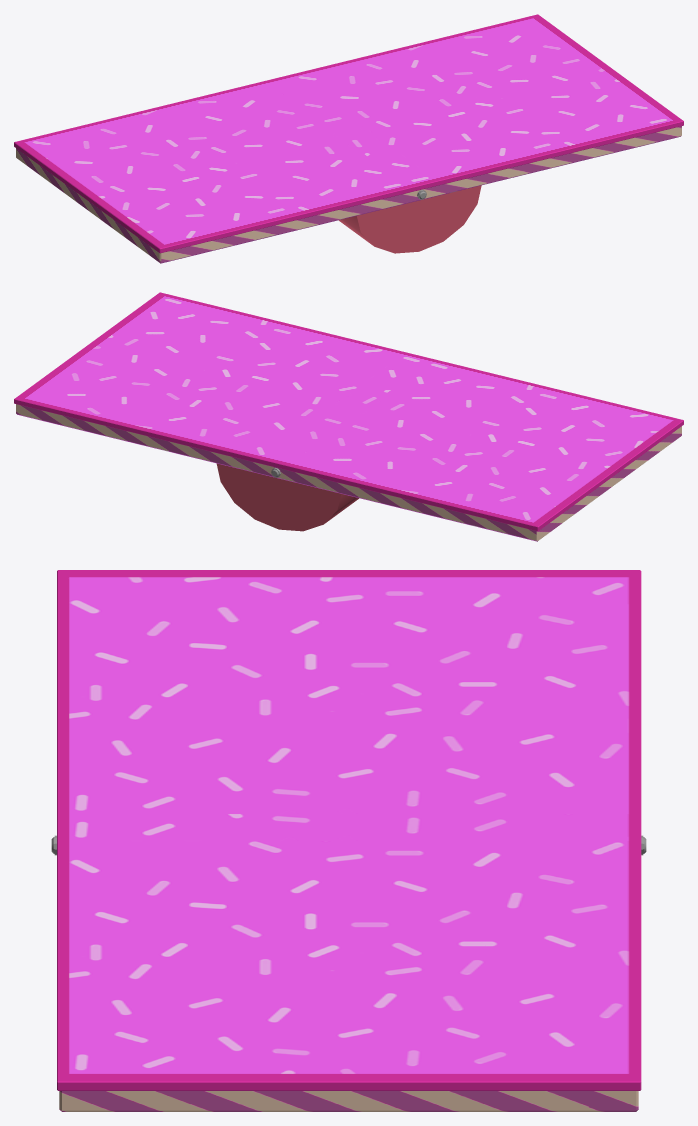
The model's file is PLF0110011.fbx.
The picture shows the model from 3 angles, top to bottom: view 1: azimuth 30°, elevation 25°; view 2: azimuth 150°, elevation 25°; view 3: azimuth 270°, elevation 25°; orthographic projection. The views are drawn at different scales.
Parts seen in each view (by area): view 1: smPLF0110011; view 2: smPLF0110011; view 3: smPLF0110011.
Part boxes in pixels (<box>): smPLF0110011: <box>14,14,683,263</box>; smPLF0110011: <box>14,292,683,541</box>; smPLF0110011: <box>51,570,646,1111</box>.
Size of the model in its own units: 548 by 68.79 by 269.
1 material, 1 textured.
